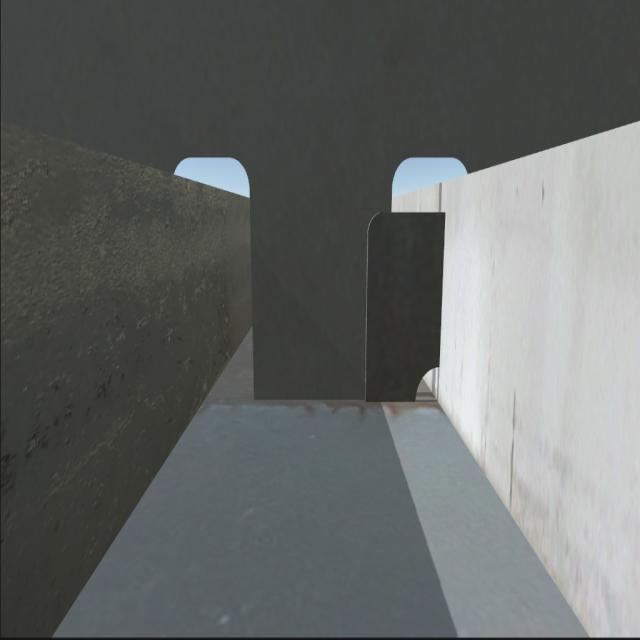fillet_hole: (408, 362, 441, 402)
fillet_yong_jeop_jang: (252, 389, 416, 409)
longi_yong_jeop_jang: (436, 211, 449, 365)
plate_CP05: (369, 207, 443, 405)
